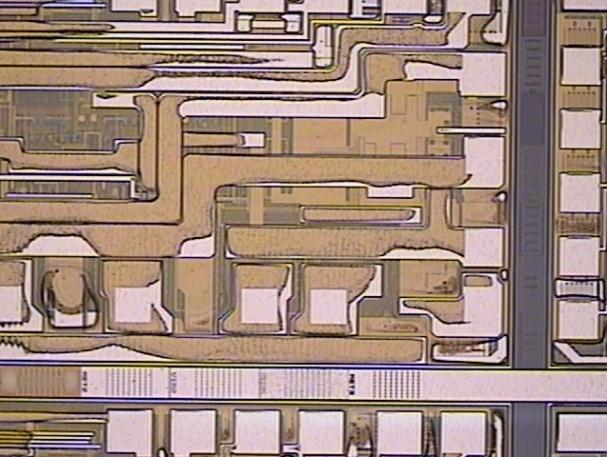COATING BAD: (1, 1, 515, 368)
